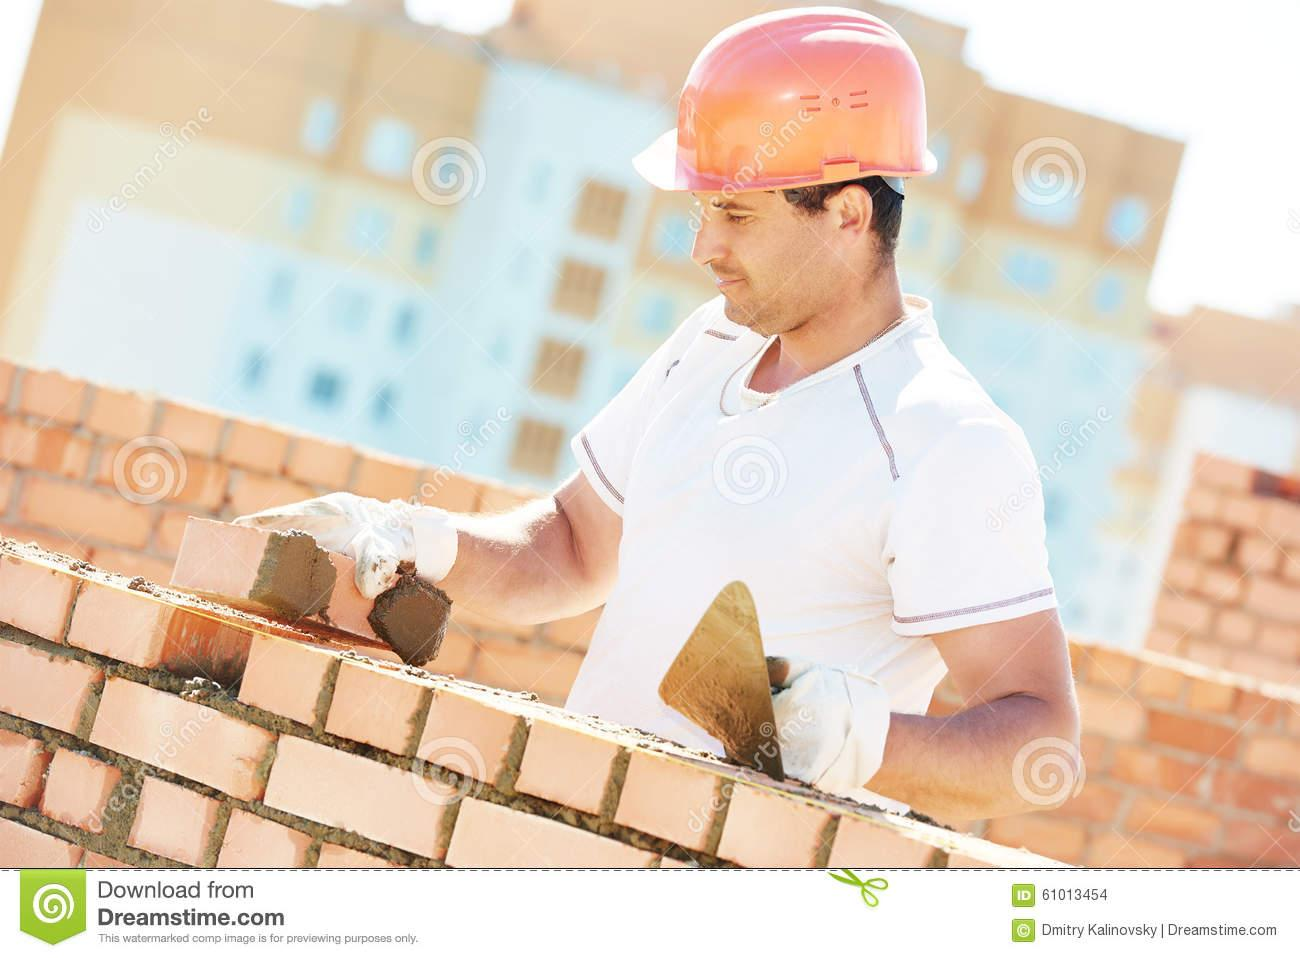helmet: (634, 7, 941, 192)
